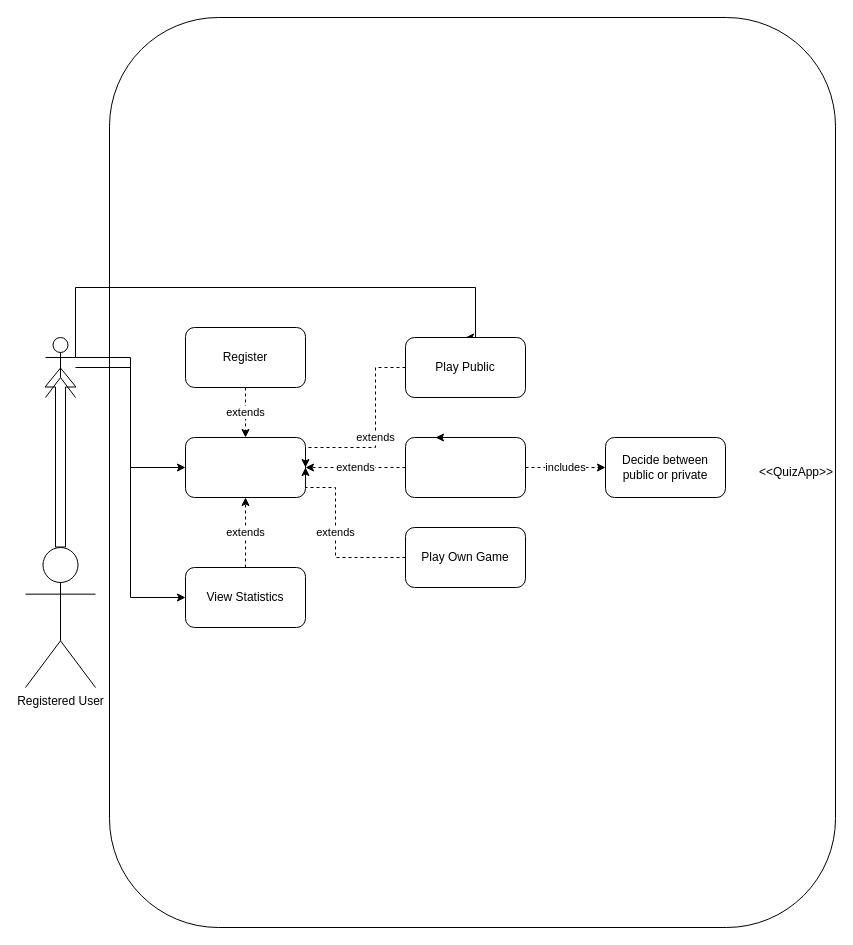
Some shapes in this 853 by 945 pixel diagram are drawn without their labels. The shapes that lost their labels are listed below. From the top down, each one's centre as x and y in pixels, then its label:
At (x=60, y=367): "User".
At (x=245, y=467): "Login".
At (x=465, y=467): "Create Quiz".
